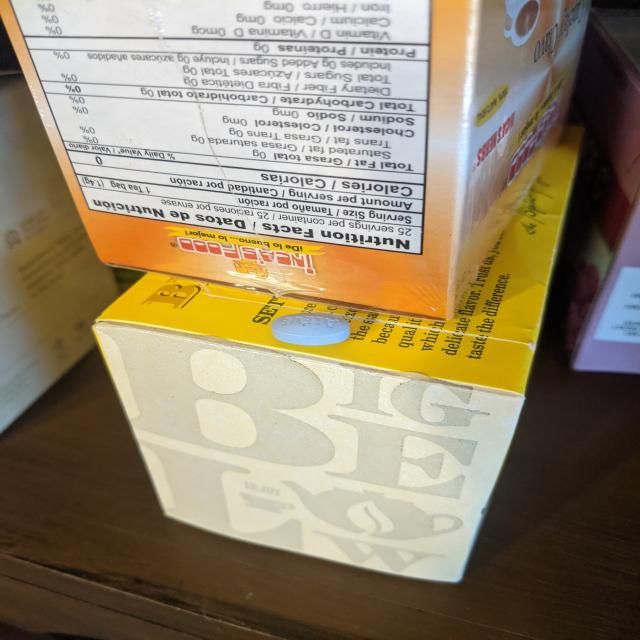non-organic waste: (270, 312, 352, 346)
